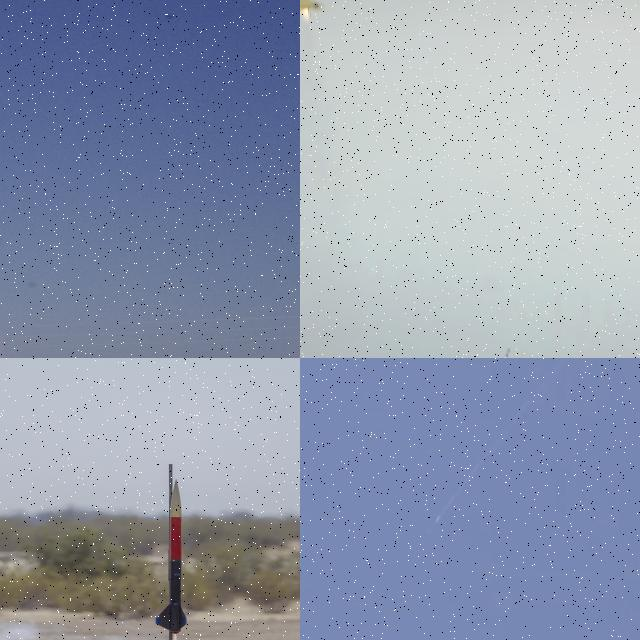Rocket: (156, 479, 188, 636), (436, 516, 440, 522)
